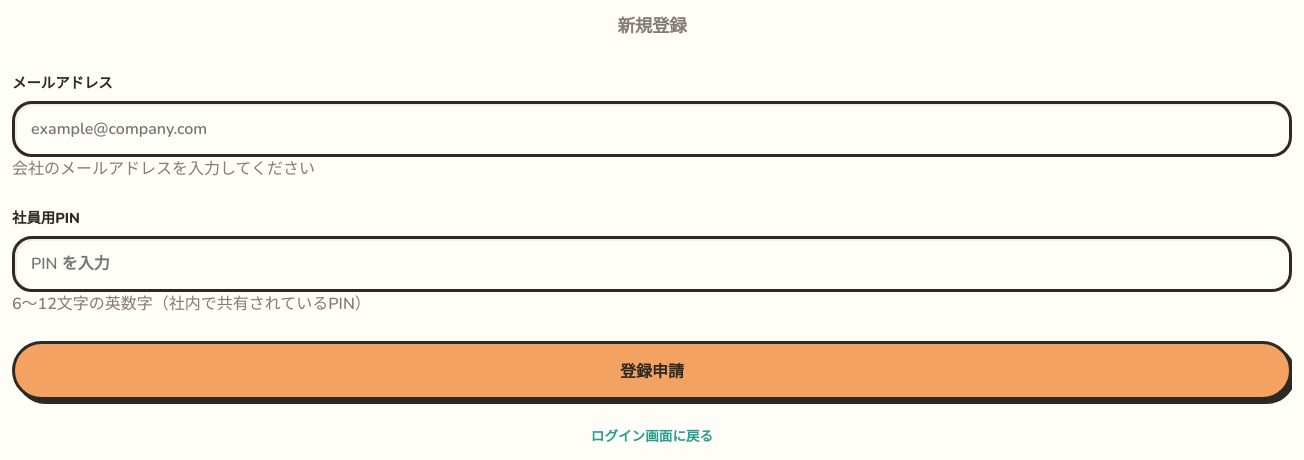
Test: SignupPage › バリデーション › PIN未入力でsubmitするとバリデーションエラーが表示される
Type "test@example.com" into the field labelled "メールアドレス" at coordinates (652, 129), box [12, 101, 1292, 157]
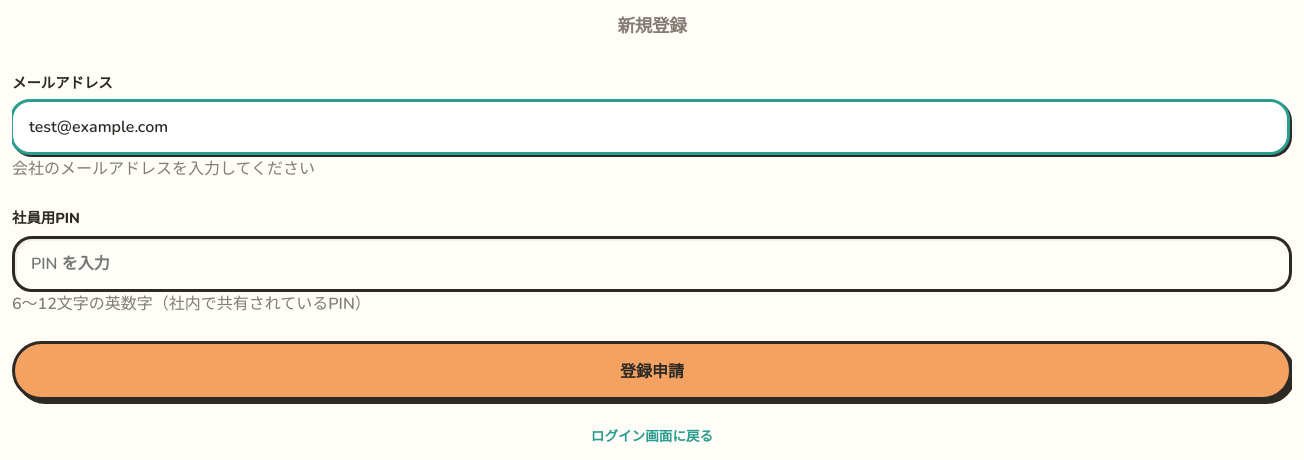
Click the button "登録申請" at coordinates (652, 371), box [12, 341, 1292, 400]
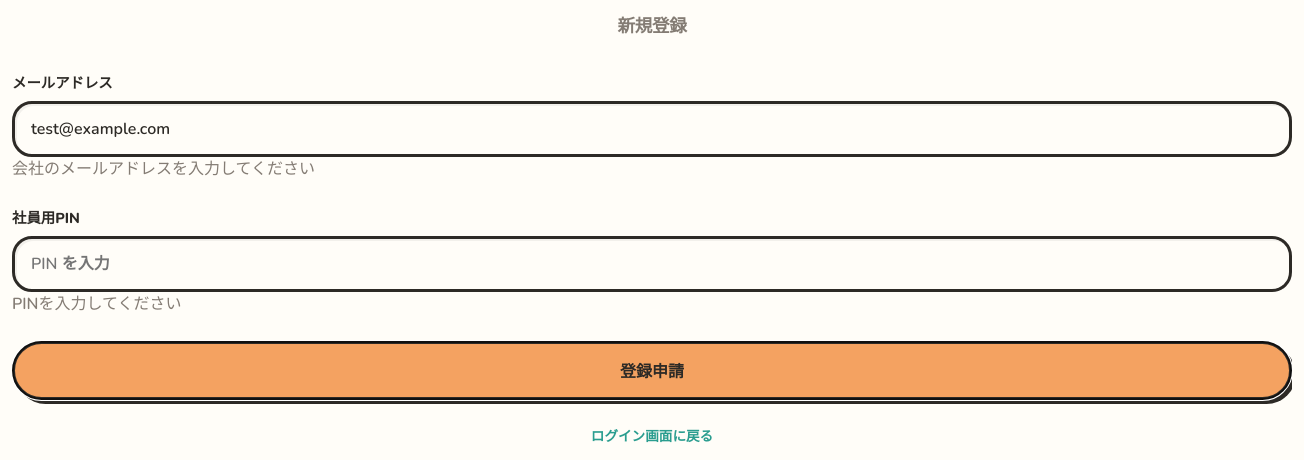
Now the text "PINを入力してください" is shown, box [12, 293, 182, 315]
